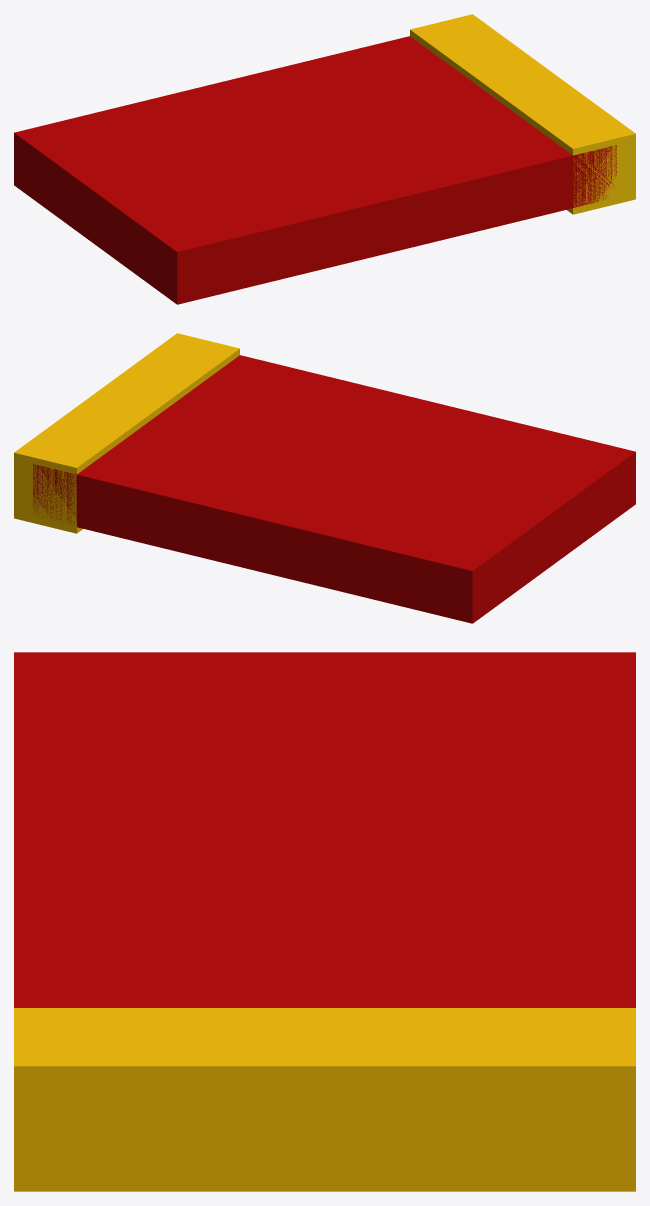
The model's file is scrap.glb.
3 views of the same model, one above another, from view 1: azimuth 30°, elevation 25°; view 2: azimuth 150°, elevation 25°; view 3: azimuth 270°, elevation 25° (orthographic). The views are drawn at different scales.
Parts seen in each view (by area): view 1: scrap; view 2: scrap; view 3: scrap.
Boxes of the visible parts, x1,y1,x2,y2 form: scrap: [14, 14, 635, 304]; scrap: [14, 333, 635, 623]; scrap: [14, 652, 635, 1191].
Size of the model in its own units: 0.73 by 0.1 by 0.45.
